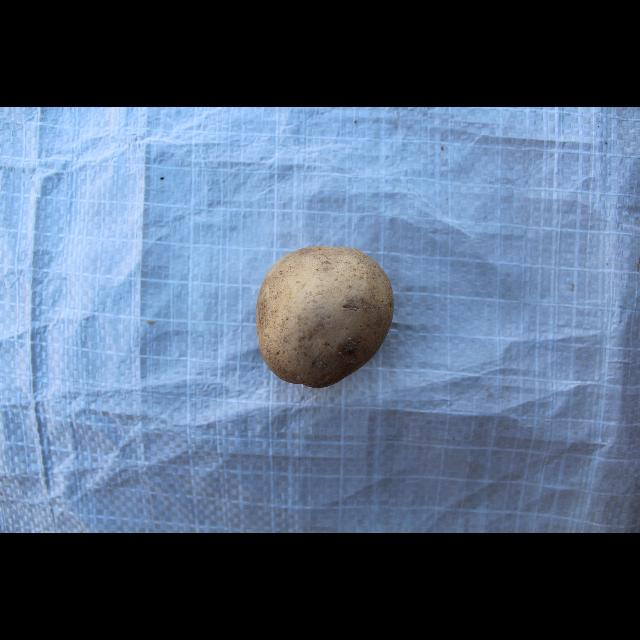Diseased-fungal potato: (254, 242, 396, 390)
